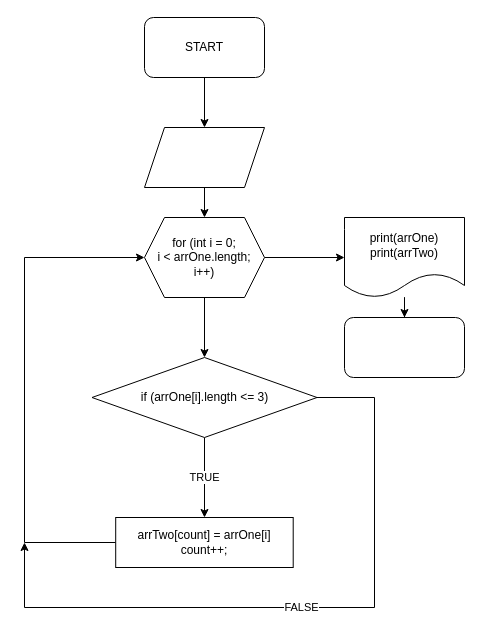
Image size: 482x633. Some labels were removed from this diagram. The box of each missing label's shape, as (x1, y1, x2, y2) in pixels:
END: (344, 316, 464, 378)
string[] arrOne string[] arrTwo int count = 0: (144, 126, 264, 188)
